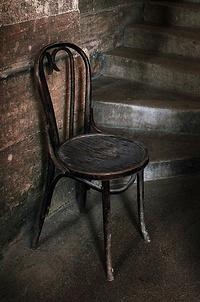obstacle: (35, 43, 149, 280)
